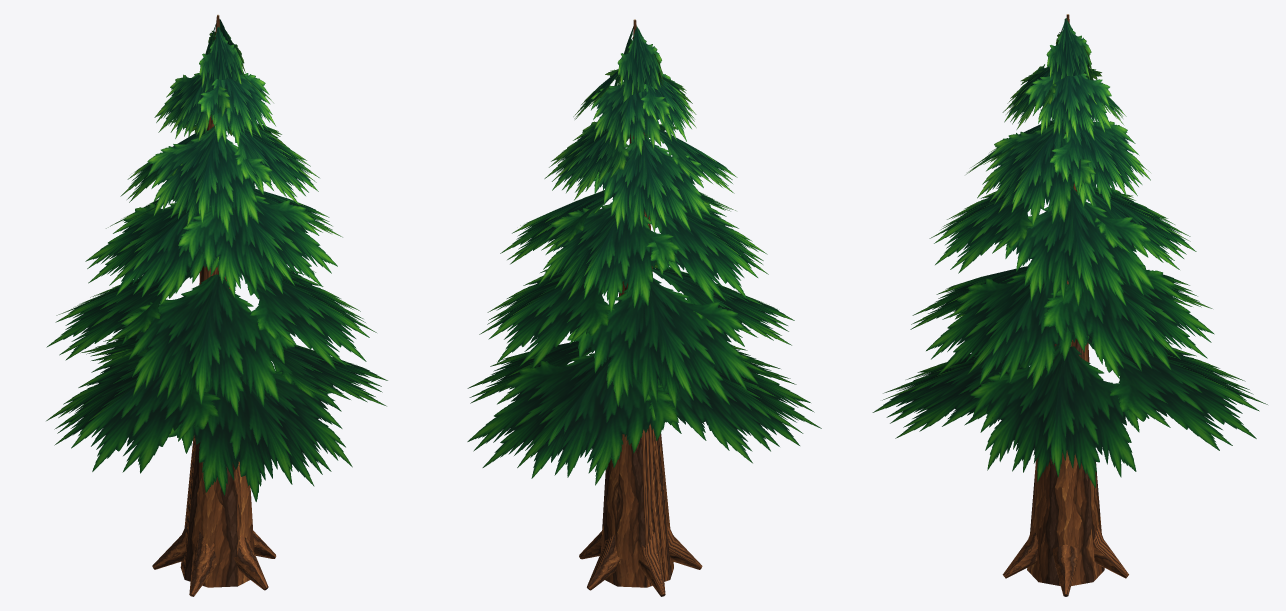
File: source_3.glb
The picture shows the model from 3 angles, left to right: view 1: azimuth 30°, elevation 25°; view 2: azimuth 150°, elevation 25°; view 3: azimuth 270°, elevation 25°; orthographic projection.
Parts seen in each view (by area): view 1: Tapered harvest trunk; view 2: Tapered harvest trunk; view 3: Tapered harvest trunk.
Boxes of the visible parts, <box> form: Tapered harvest trunk: <box>46,14,387,596</box>; Tapered harvest trunk: <box>467,19,821,596</box>; Tapered harvest trunk: <box>872,14,1267,596</box>.
Bounding box in the file's own units: 7.57 × 12.32 × 8.07.
Materials: 3 (2 with a texture image).
